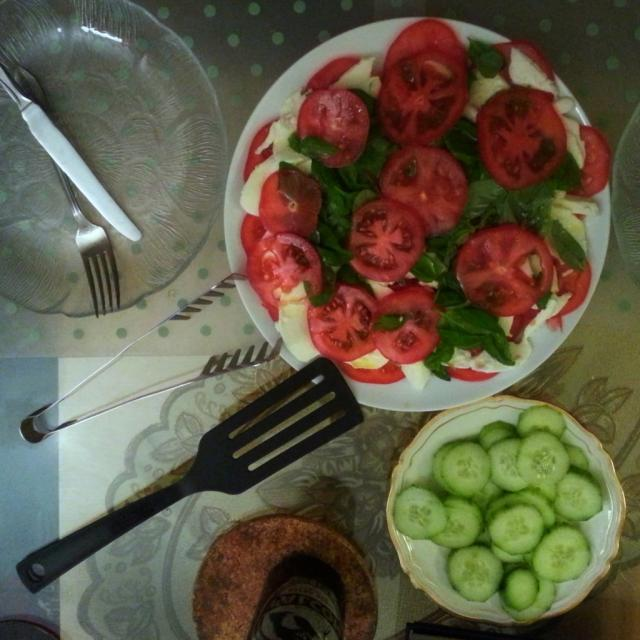Cucumber: (394, 396, 622, 594)
